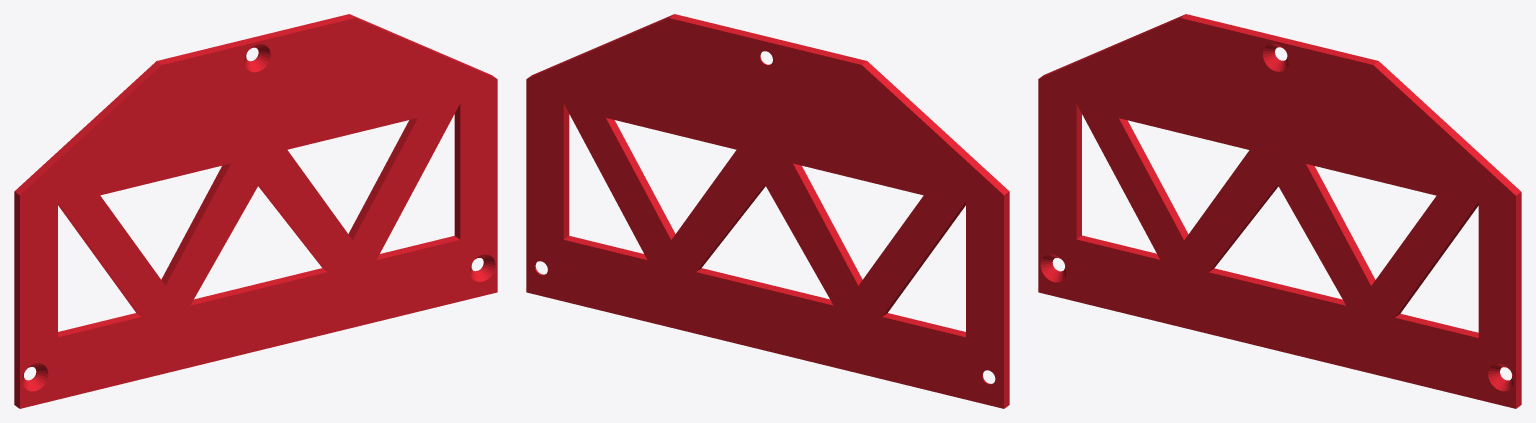
The model's file is tinker.obj.
3 renders of one model, left to right at view 1: azimuth 30°, elevation 25°; view 2: azimuth 150°, elevation 25°; view 3: azimuth 330°, elevation 25°, orthographic.
Parts seen in each view (by area): view 1: obj_0; view 2: obj_0; view 3: obj_0.
Part boxes in pixels (left/top/right/bottom): obj_0: left=14, top=14, right=497, bottom=408; obj_0: left=526, top=14, right=1009, bottom=408; obj_0: left=1038, top=14, right=1521, bottom=408.
Size of the model in its own units: 140 by 86.9 by 2.8.
